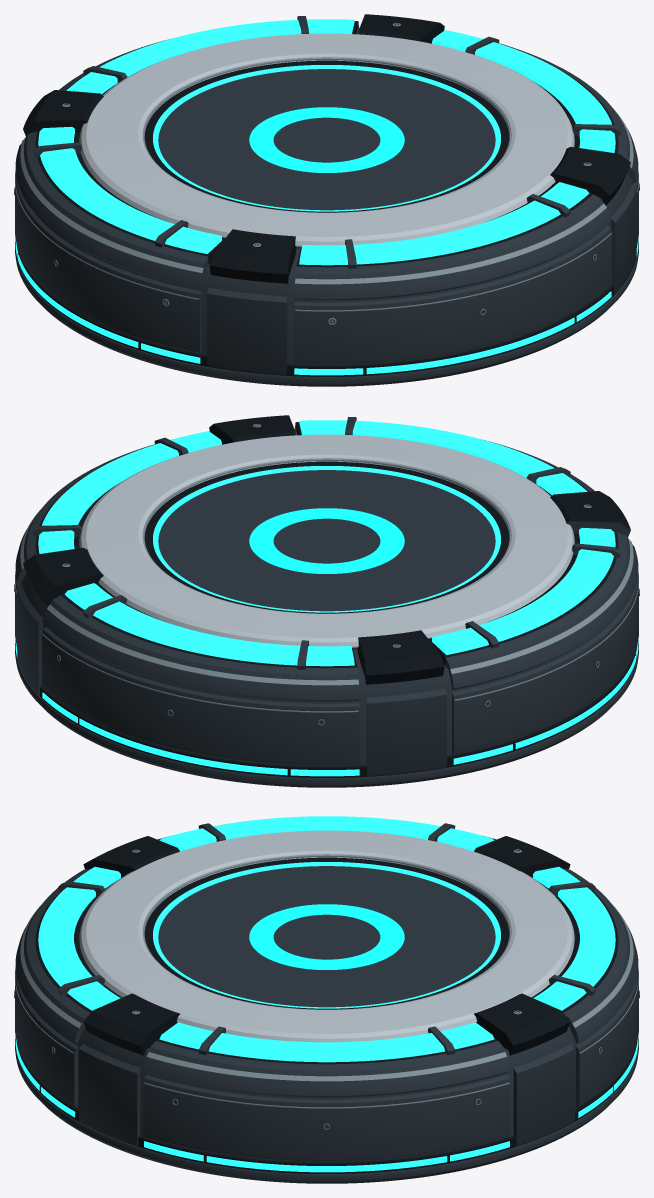
File: Standard.fbx
3 views of the same model, one above another, from view 1: azimuth 30°, elevation 25°; view 2: azimuth 150°, elevation 25°; view 3: azimuth 270°, elevation 25° (orthographic).
Visible parts, largest first — view 1: Top light bridge 3 25; view 2: Top light bridge 3 25; view 3: Top light bridge 3 25.
Boxes of the visible parts, <box> form: Top light bridge 3 25: <box>14,14,639,386</box>; Top light bridge 3 25: <box>14,415,639,787</box>; Top light bridge 3 25: <box>14,816,639,1183</box>.
Bounding box in the file's own units: 90.24 × 20 × 90.24.
